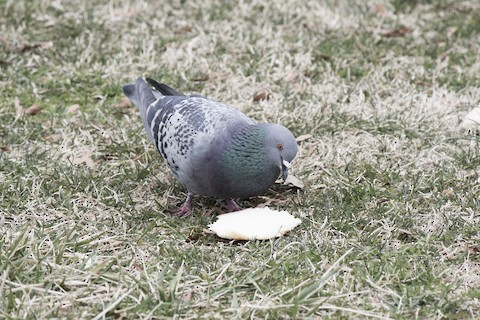pigeon: (121, 73, 309, 216)
